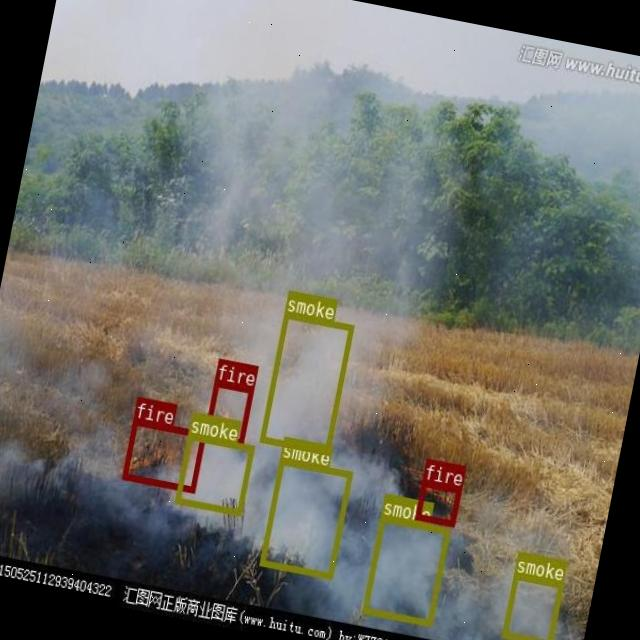fire: (122, 417, 205, 491), (202, 378, 254, 444), (415, 478, 461, 526)
smoke: (259, 311, 353, 454), (259, 457, 353, 579), (362, 515, 450, 625), (174, 433, 253, 515), (501, 571, 564, 640)
